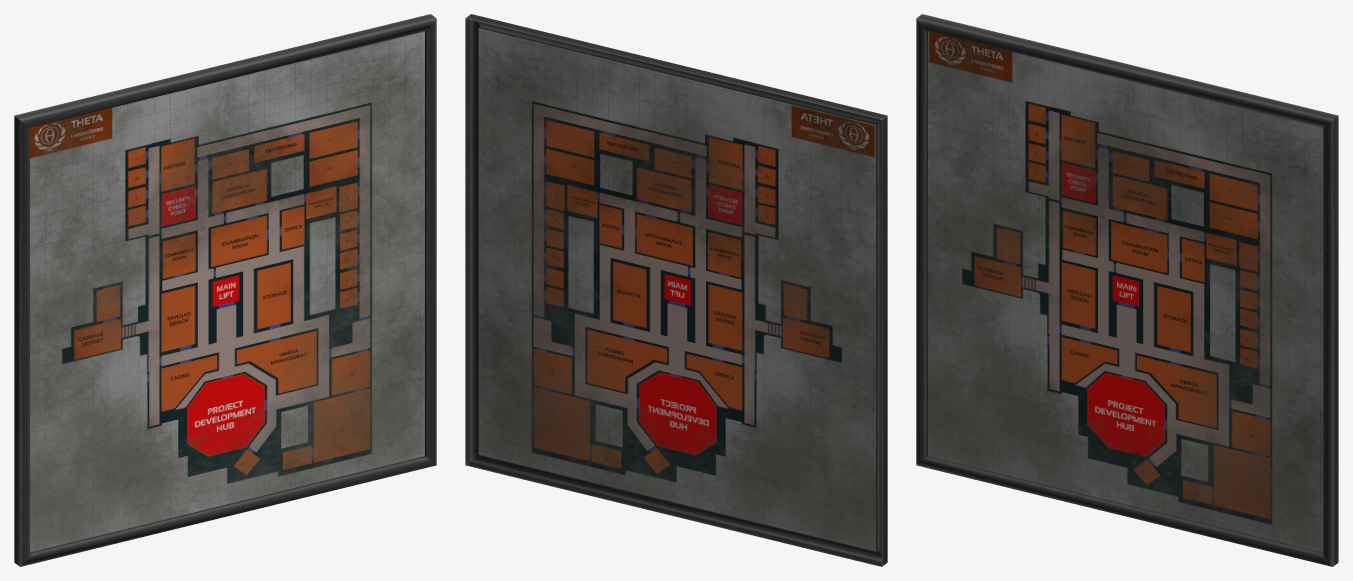
File: theta_security_map.dae
3 views of the same model, side by side, from view 1: azimuth 30°, elevation 25°; view 2: azimuth 150°, elevation 25°; view 3: azimuth 330°, elevation 25° (orthographic).
Parts seen in each view (by area): view 1: Mesh__2_, Mesh; view 2: Mesh__2_, Mesh; view 3: Mesh__2_, Mesh.
Boxes of the visible parts, x1,y1,x2,y2 form: Mesh__2_: (30,31,424,552); Mesh: (14,14,436,566); Mesh__2_: (478,28,875,551); Mesh: (465,14,887,566); Mesh__2_: (928,31,1322,552); Mesh: (916,14,1338,566).
Size of the model in its own units: 1.08 by 1.11 by 0.027.
